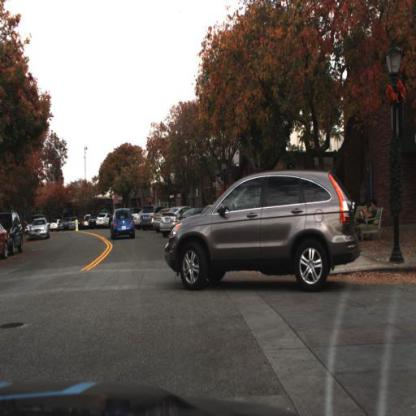car: (165, 160, 362, 288), (2, 212, 26, 257), (111, 206, 136, 244), (30, 219, 51, 242), (1, 226, 9, 263), (96, 213, 109, 230), (50, 220, 59, 235)
pedestrian: (367, 194, 378, 232), (360, 178, 369, 205), (360, 198, 369, 224), (369, 199, 380, 217), (362, 201, 371, 217)
